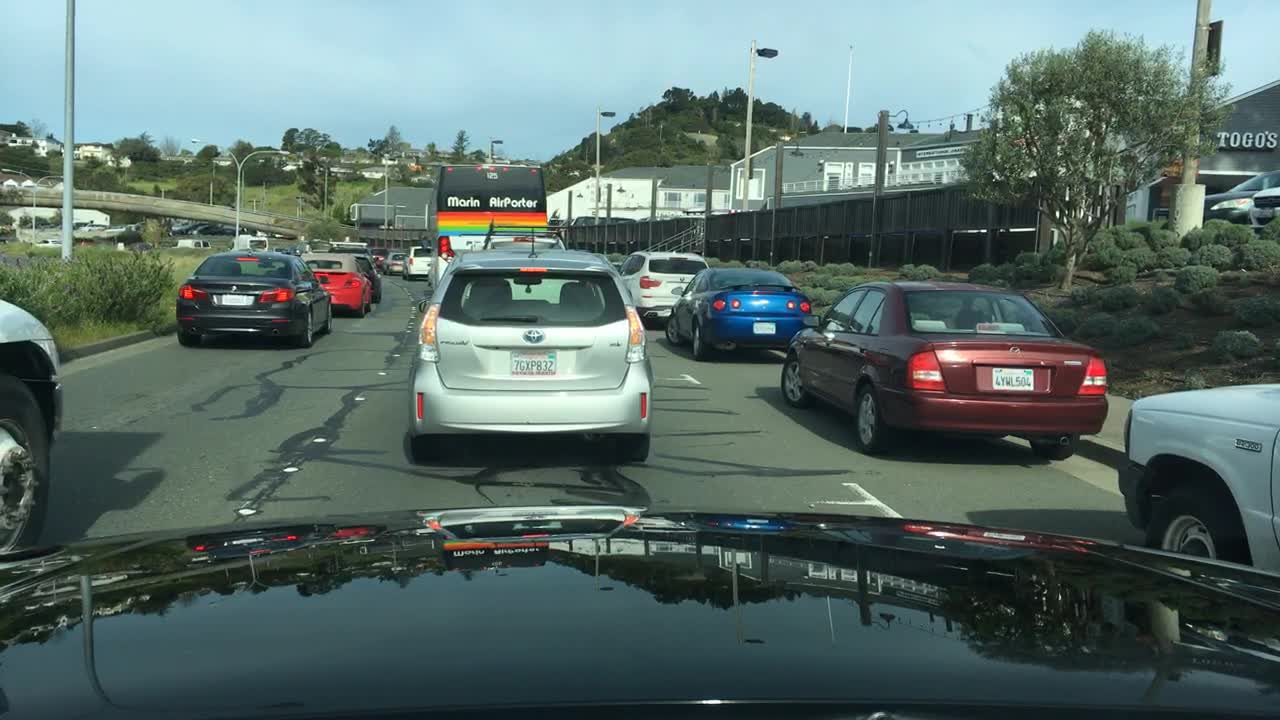bus: (424, 160, 550, 293)
car: (781, 279, 1108, 461), (405, 249, 653, 465), (1118, 377, 1279, 574), (0, 291, 63, 552), (173, 251, 332, 349), (666, 266, 815, 361), (617, 248, 708, 328), (297, 249, 372, 316), (1202, 169, 1279, 222), (328, 240, 385, 304), (310, 269, 374, 318), (402, 245, 438, 279), (382, 250, 407, 278), (177, 236, 212, 247), (129, 234, 151, 249), (35, 236, 64, 247), (371, 247, 387, 265)
